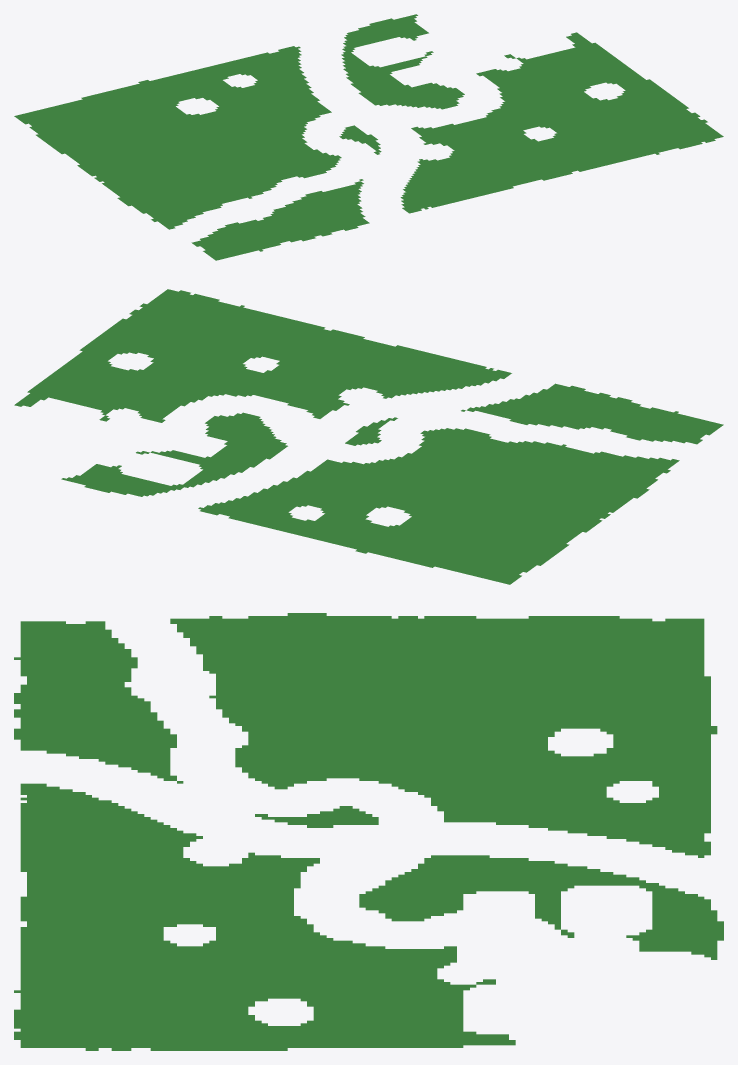
File: Map-M3-TreesArea.fbx
3 renders of one model, top to bottom at view 1: azimuth 30°, elevation 25°; view 2: azimuth 150°, elevation 25°; view 3: azimuth 270°, elevation 25°, orthographic. The views are drawn at different scales.
Parts seen in each view (by area): view 1: Map-M3-TreesArea; view 2: Map-M3-TreesArea; view 3: Map-M3-TreesArea.
Part boxes in pixels (bbox=[...]): Map-M3-TreesArea: bbox=[14, 14, 723, 260]; Map-M3-TreesArea: bbox=[14, 289, 723, 584]; Map-M3-TreesArea: bbox=[14, 613, 723, 1050].
Size of the model in its own units: 159 by 0 by 109.
